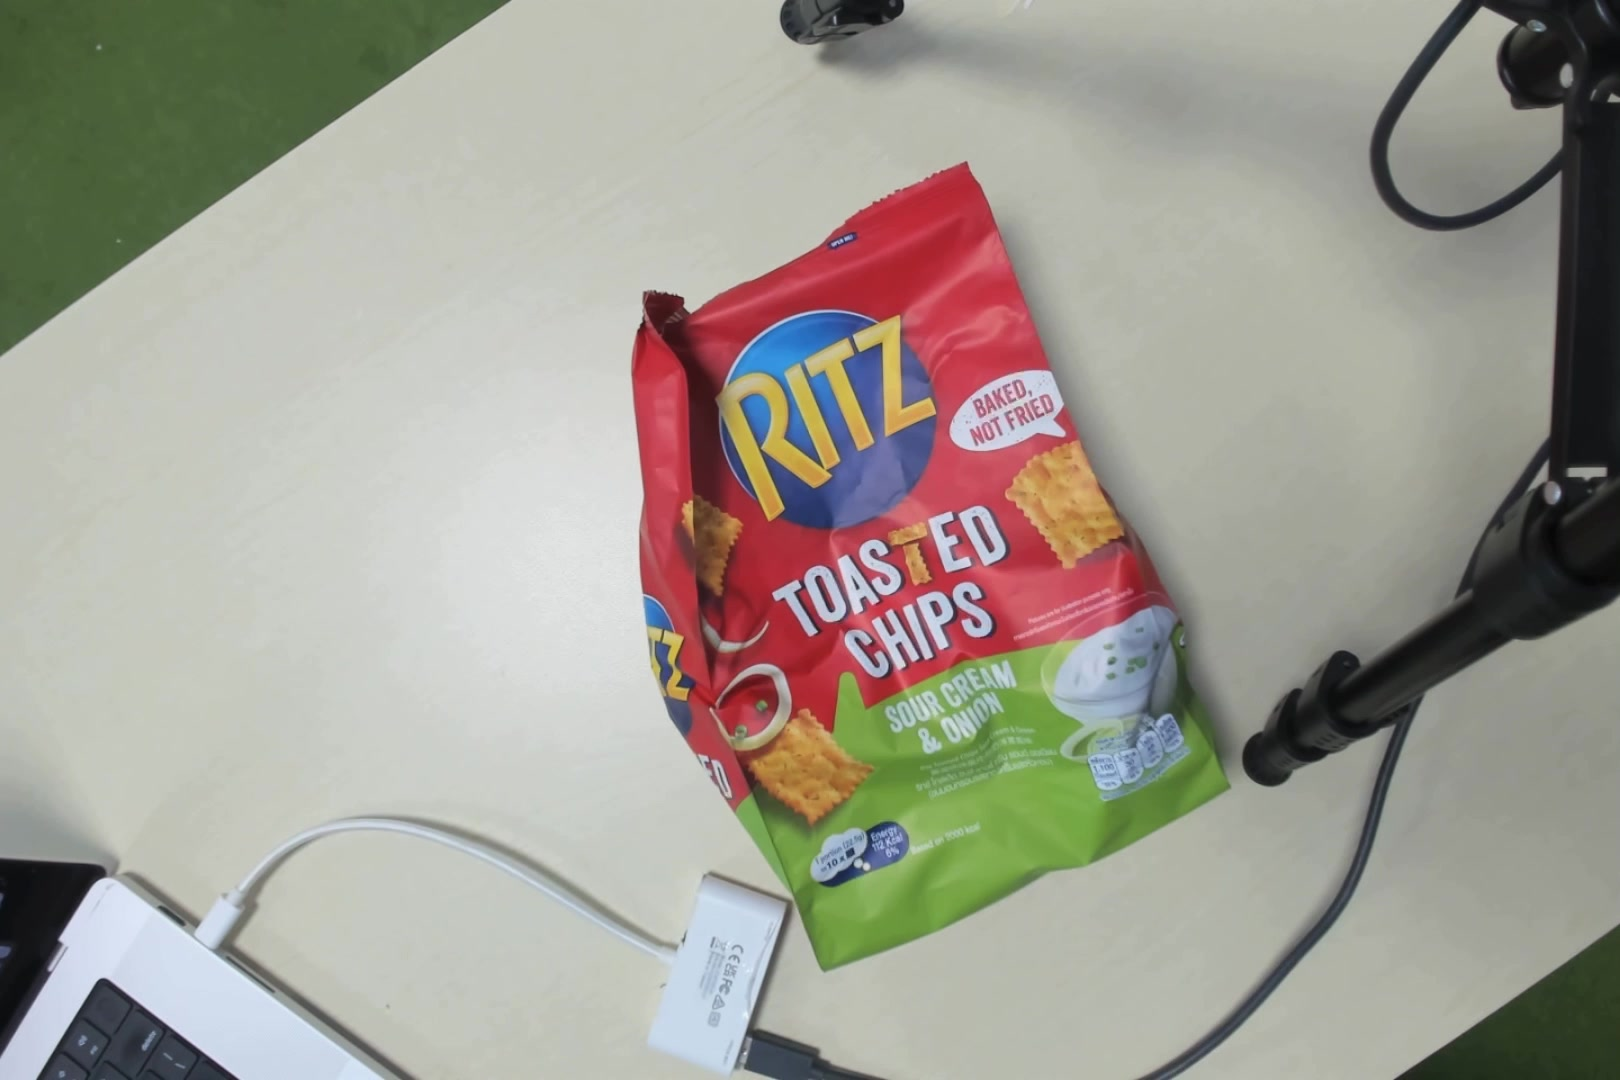BiscuitsCrackersCookies_200-299g_NonHalal_NonHealthy: (670, 222, 1176, 903)
